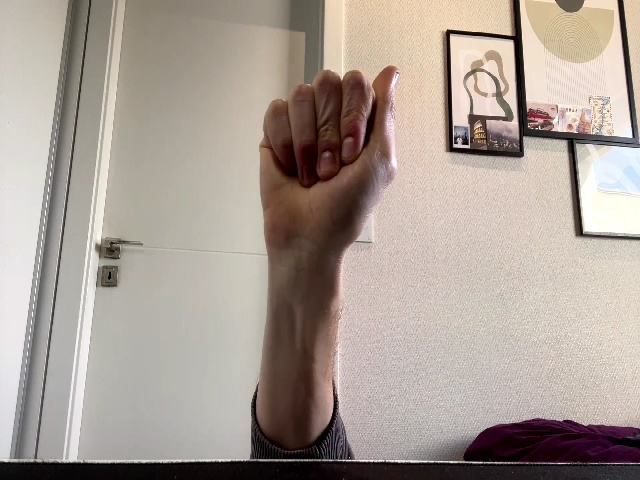A: (259, 66, 400, 249)
